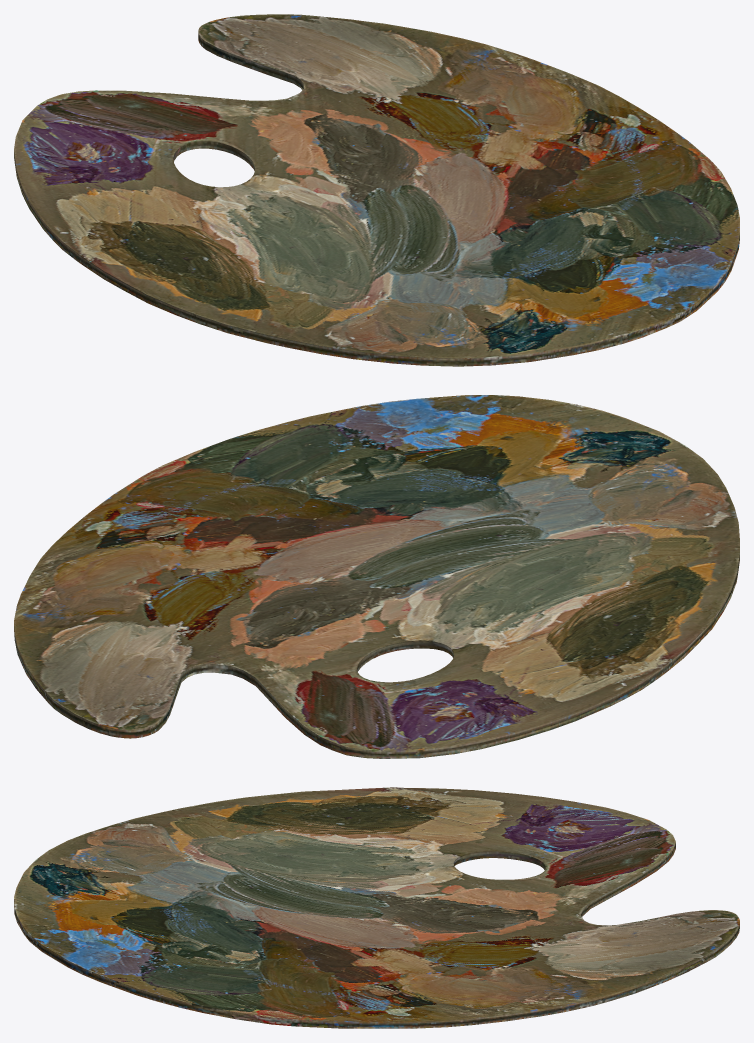
Rendered from SM_Palette_02a.fbx.
3 renders of one model, top to bottom at view 1: azimuth 30°, elevation 25°; view 2: azimuth 150°, elevation 25°; view 3: azimuth 270°, elevation 25°, orthographic. The views are drawn at different scales.
Visible parts, largest first — view 1: SM_Palette_02a; view 2: SM_Palette_02a; view 3: SM_Palette_02a.
Boxes of the visible parts, left/top/right/bottom form: SM_Palette_02a: left=14, top=14, right=739, bottom=366; SM_Palette_02a: left=14, top=395, right=739, bottom=758; SM_Palette_02a: left=14, top=787, right=739, bottom=1028.
Bounding box in the file's own units: 0.3079 × 0.4017 × 0.0103.
